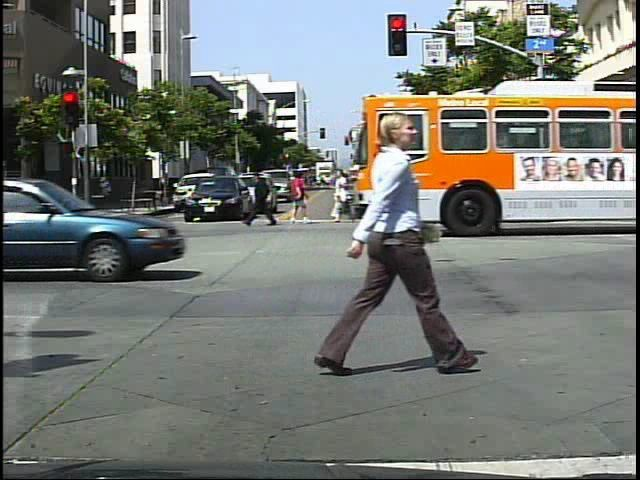person: (313, 84, 442, 384), (333, 164, 367, 228), (249, 165, 279, 234), (284, 166, 313, 229), (550, 160, 573, 211)
